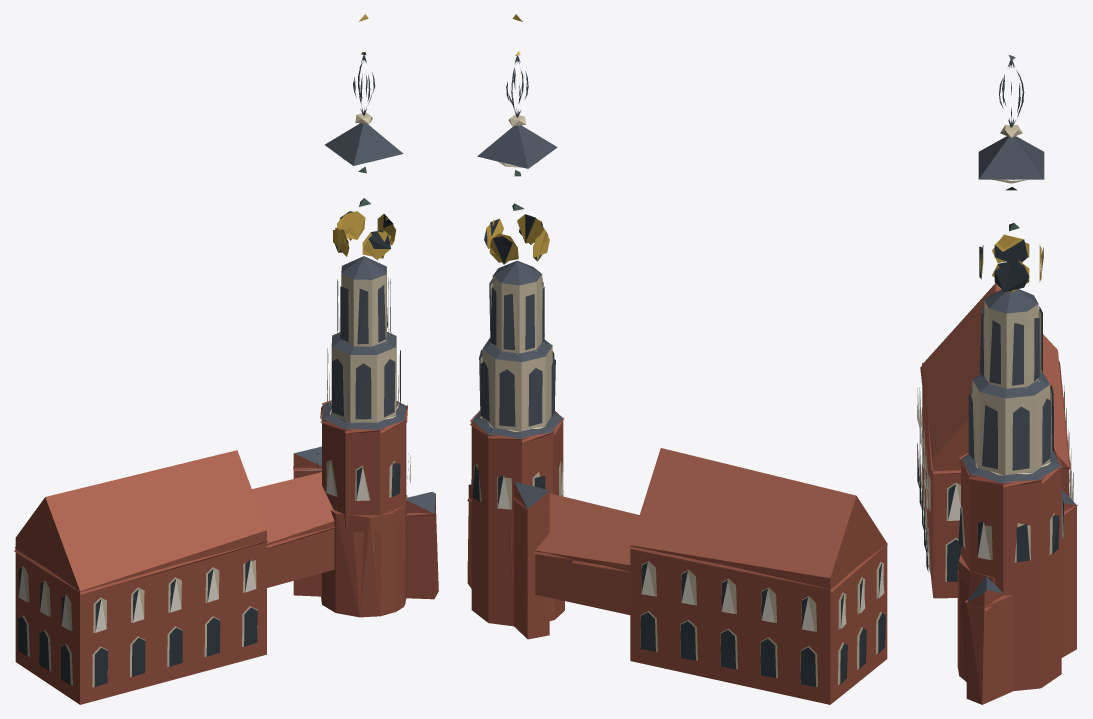
File: munttoren-amsterdam.lod2.glb
3 views of the same model, side by side, from view 1: azimuth 30°, elevation 25°; view 2: azimuth 150°, elevation 25°; view 3: azimuth 270°, elevation 25° (orthographic). The views are drawn at different scales.
Visible parts, largest first — view 1: lod2; view 2: lod2; view 3: lod2.
Part boxes in pixels (box(x1,y1,x2,y2)): lod2: box(14, 14, 438, 704); lod2: box(467, 14, 887, 704); lod2: box(917, 55, 1077, 704).
Bounding box in the file's own units: 28.97 × 41 × 9.1.
